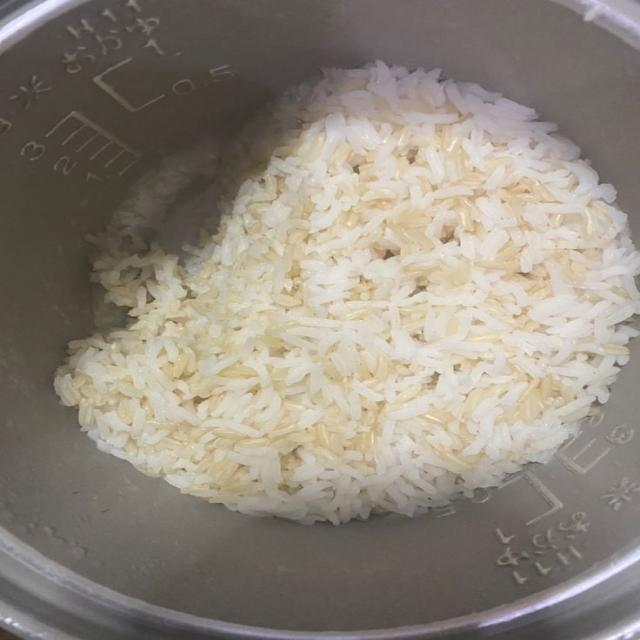rice: (55, 63, 639, 523)
